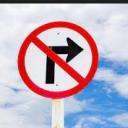NoVirarDireita: (15, 21, 100, 100)
